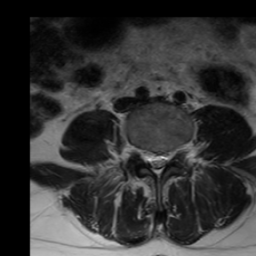CCS_normal: (153, 144, 161, 185)
LFS_normal: (170, 137, 177, 167)
LLS_normal: (161, 142, 170, 174)
RFS_stenosis: (135, 136, 145, 166)
RLS_normal: (144, 140, 153, 176)
